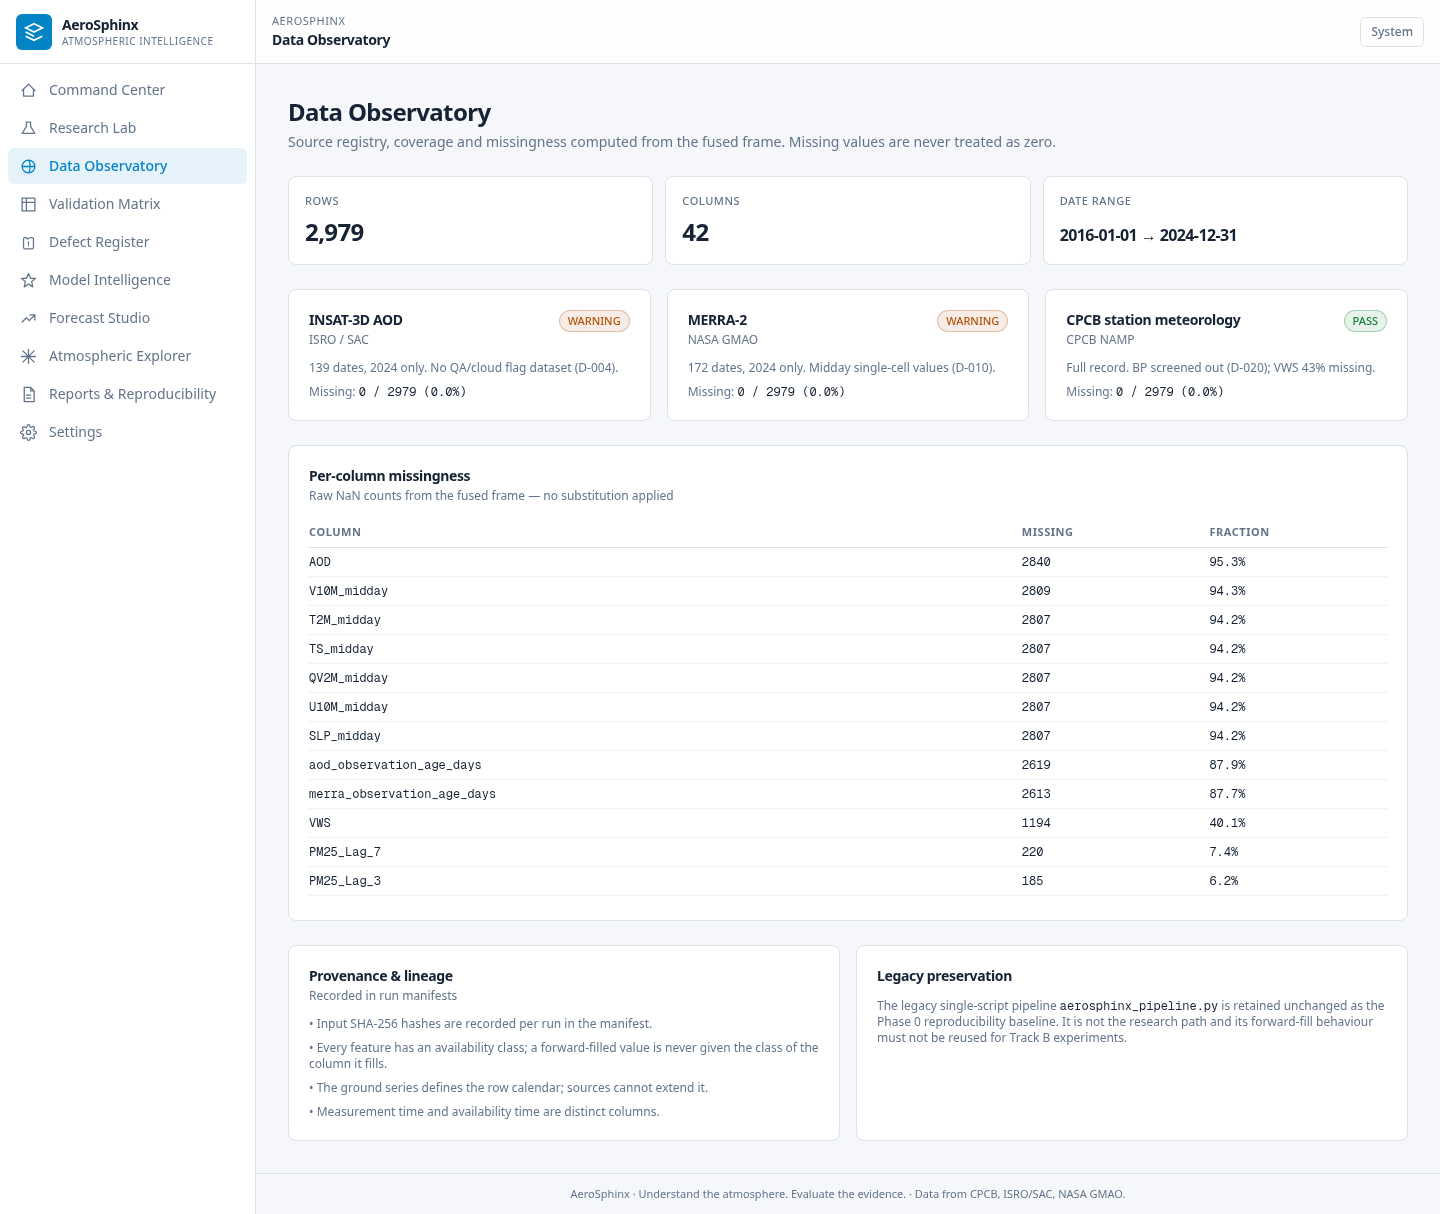

What the dashboard file says about the page in this screenshot:
{"tool":"powerbi","page":{"name":"Page 4","canvas":[1280,720],"ordinal":3},"visuals":[{"type":"image","box":[281.4,0,716.3,719.8],"z":0}]}

Visuals, with their boxes on the page's 1280x720 design canvas (x1, y1, x2, y2). These are canvas units, not pixel positions in the 1440x1214 screenshot, which may show the page scaled, cropped or inside an application window:
image: locate(281, 0, 998, 720)
